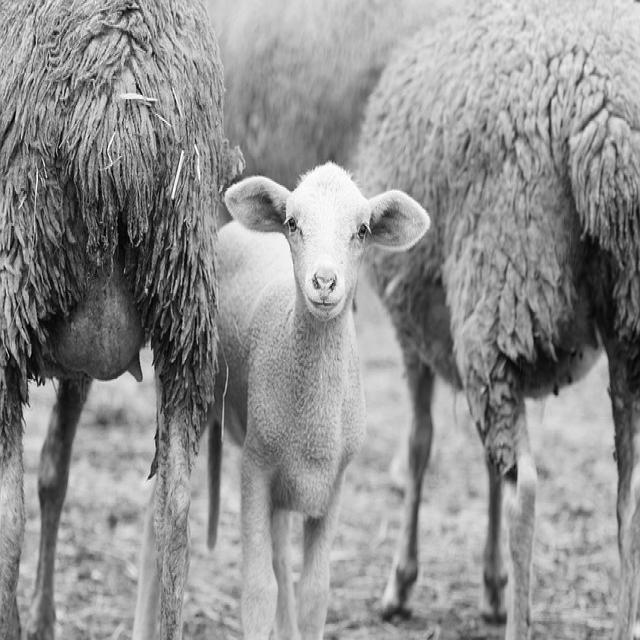goat: (356, 4, 640, 637), (0, 2, 242, 638), (209, 162, 430, 638), (209, 0, 462, 187)
